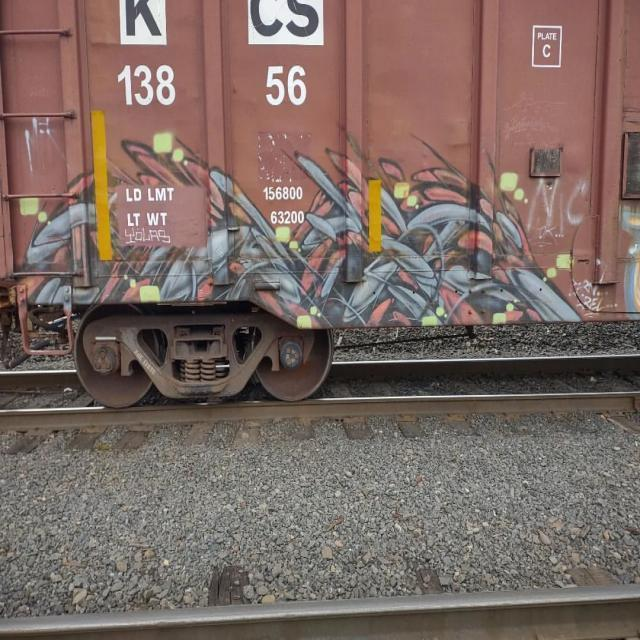nonspitting: (20, 132, 582, 326)
